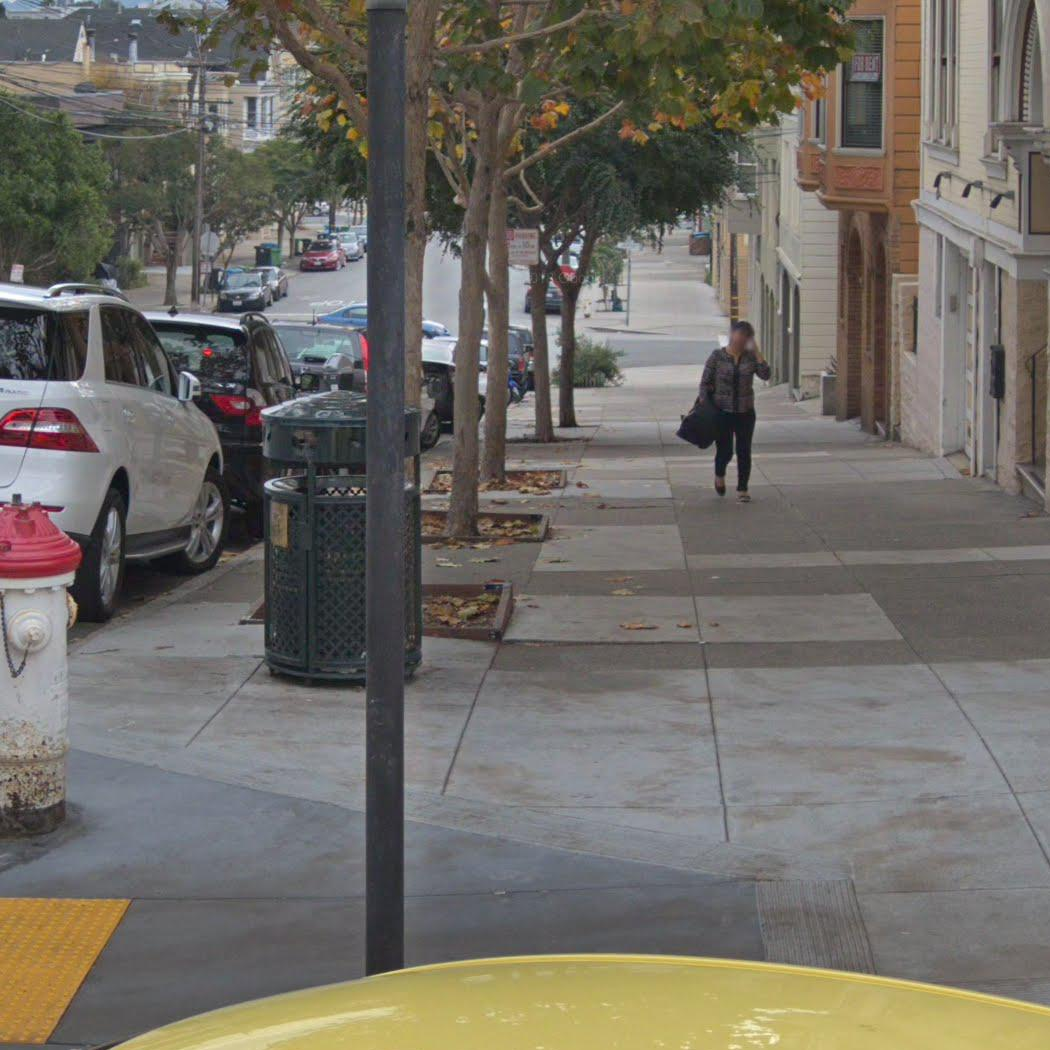No Parking: (510, 224, 542, 271)
